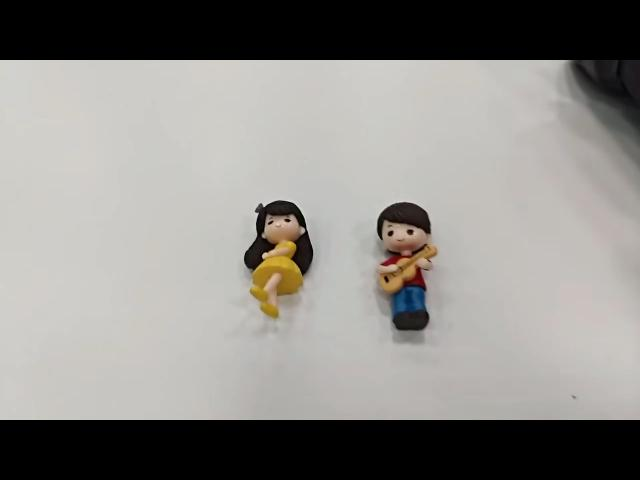man: (368, 198, 444, 336)
woman: (242, 195, 322, 329)
